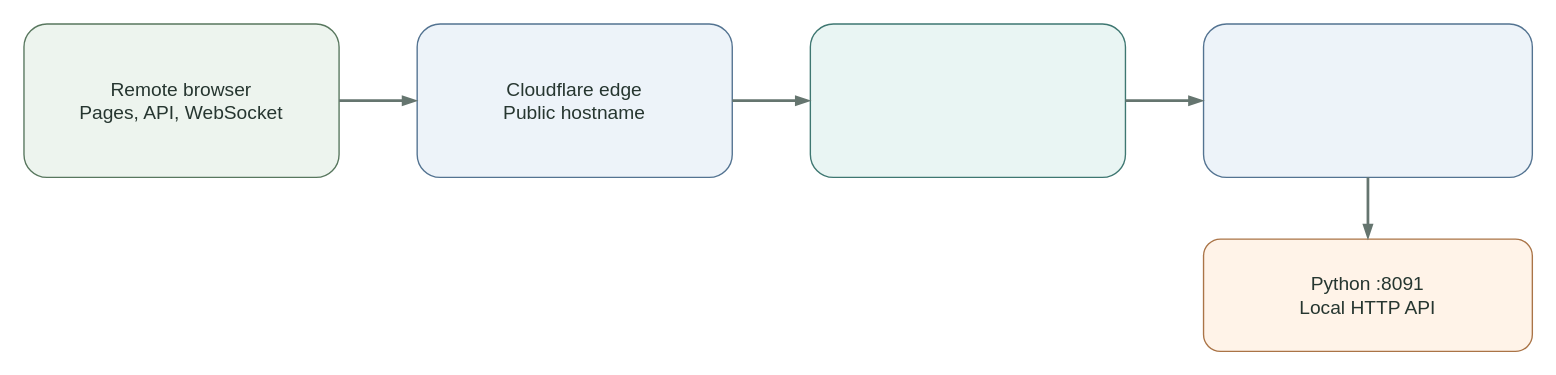
This 1556x375 diagram has some shape labels left out. Here are the shapes that lost their labels. From the top down, the centre of each, then its label:
At [967,100]: "cloudflared Outbound tunnel".
At [1367,100]: "Go :8081 Web + signaling".
